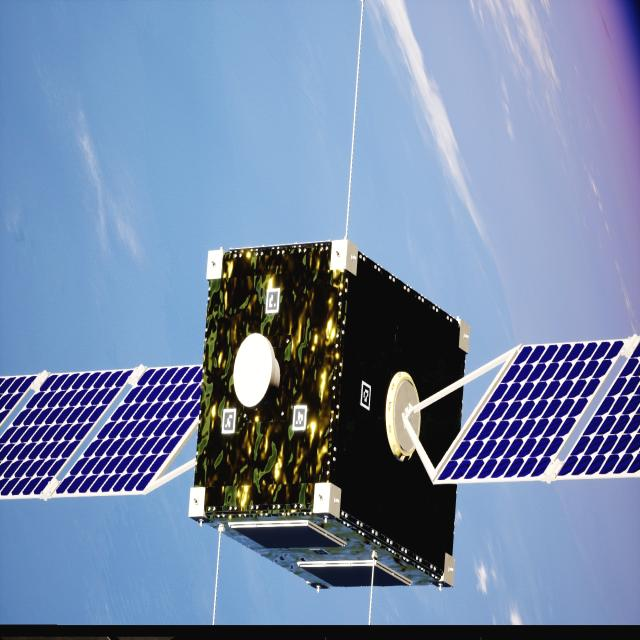satellite: (0, 240, 640, 587)
